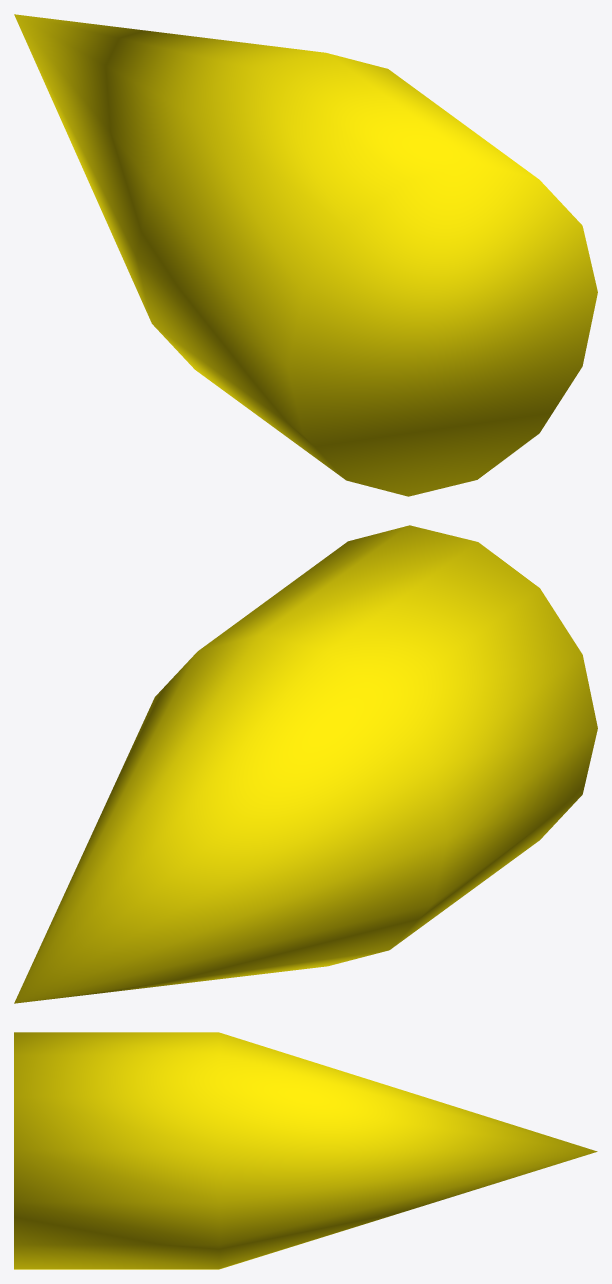
Rendered from P_BulletM.gltf.
The picture shows the model from 3 angles, top to bottom: view 1: azimuth 30°, elevation 25°; view 2: azimuth 150°, elevation 25°; view 3: azimuth 270°, elevation 25°; orthographic projection. The views are drawn at different scales.
Visible parts, largest first — view 1: Bullet; view 2: Bullet; view 3: Bullet.
Boxes of the visible parts, x1,y1,x2,y2 form: Bullet: (14,14,597,496); Bullet: (14,525,597,1003); Bullet: (14,1032,597,1269).
Size of the model in its own units: 0.2835 by 0.2764 by 0.6824.
